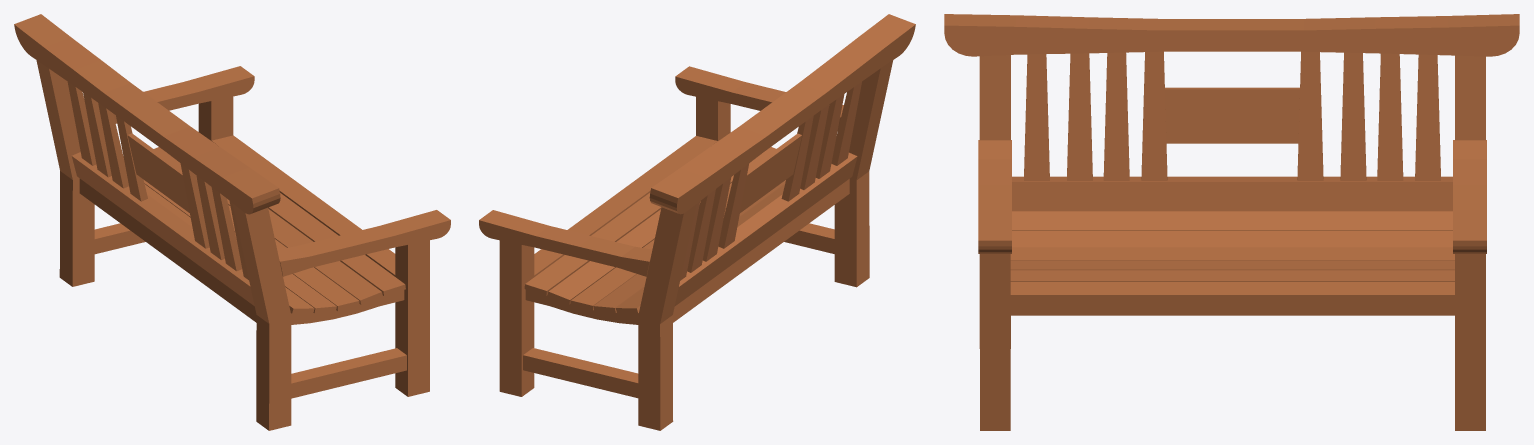
The model's file is Banco Japones HIGHPOLY.fbx.
3 views of the same model, side by side, from view 1: azimuth 30°, elevation 25°; view 2: azimuth 150°, elevation 25°; view 3: azimuth 270°, elevation 25° (orthographic). The views are drawn at different scales.
Parts seen in each view (by area): view 1: Banco.001; view 2: Banco.001; view 3: Banco.001.
Boxes of the visible parts, box(x1,y1,x2,y2) form: Banco.001: box(14, 14, 450, 430); Banco.001: box(479, 14, 915, 430); Banco.001: box(944, 14, 1519, 430).
Size of the model in its own units: 1035 by 1182 by 2003.
